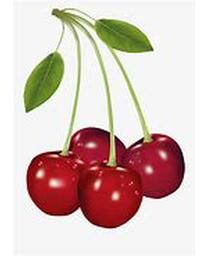cherry: (25, 148, 89, 216), (80, 161, 143, 229), (122, 132, 185, 199), (67, 127, 130, 179)
